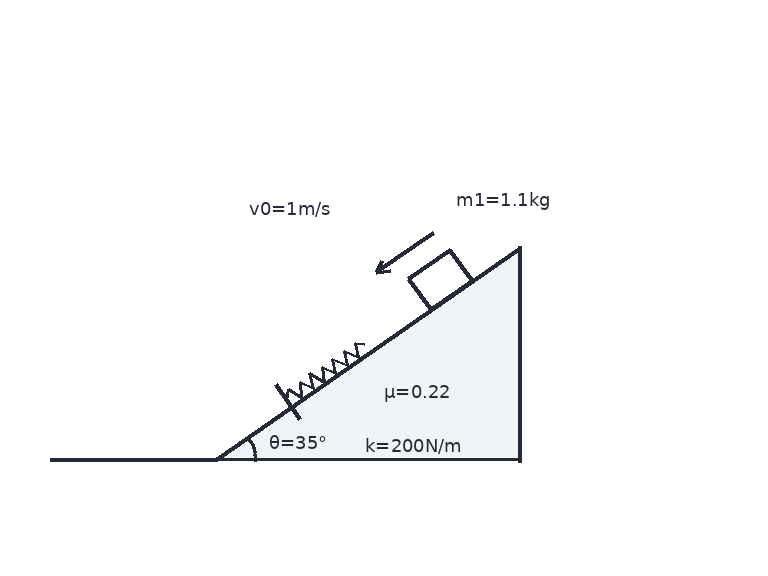block: (407, 247, 474, 311)
ramp: (213, 245, 521, 462)
spring: (284, 340, 367, 401)
